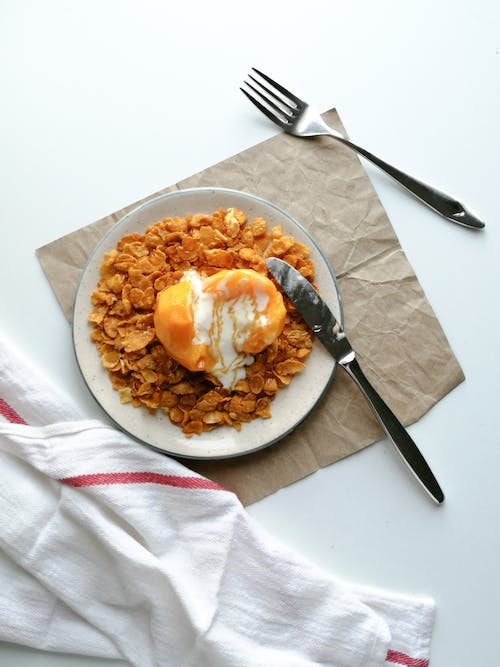knife: (265, 254, 447, 507)
